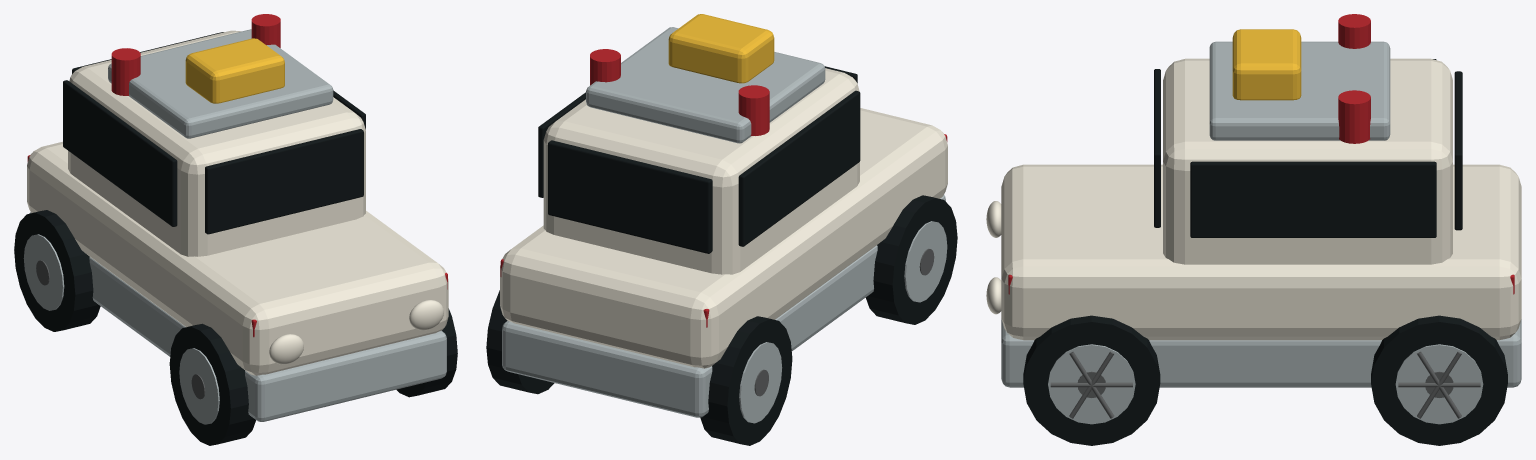
Rendered from hiperreal.glb.
The picture shows the model from 3 angles, left to right: view 1: azimuth 30°, elevation 25°; view 2: azimuth 150°, elevation 25°; view 3: azimuth 270°, elevation 25°; orthographic projection. The views are drawn at different scales.
Parts seen in each view (by area): view 1: White body, Cabin, Car chassis, Windscreen, Roof rack, Windows, Tyre.002, Tyre, Equipment, Rim, Rim.002, Tyre.003 (+4 smaller); view 2: White body, Cabin, Car chassis, Rear window, Roof rack, Windows, Tyre, Tyre.002, Equipment, Rim, Rim.002, Tyre.001 (+3 smaller); view 3: White body, Cabin, Windows.001, Car chassis, Roof rack, Tyre.003, Tyre.001, Equipment, Rim.003, Rim.001, Roof beacon.001, Rear window (+2 smaller).
Part boxes in pixels (x1,y1,x2,y2): White body: [27, 141, 448, 375]; Cabin: [68, 30, 365, 256]; Car chassis: [29, 212, 446, 421]; Windscreen: [205, 129, 363, 234]; Roof rack: [108, 29, 333, 138]; Windows: [63, 80, 177, 226]; Tyre.002: [169, 323, 255, 445]; Tyre: [14, 210, 100, 331]; Equipment: [185, 38, 284, 103]; Rim: [23, 234, 64, 310]; Rim.002: [179, 348, 219, 424]; Tyre.003: [396, 308, 457, 397]; White body: [500, 108, 947, 368]; Cabin: [543, 68, 859, 274]; Car chassis: [502, 195, 945, 417]; Rear window: [548, 140, 712, 253]; Roof rack: [586, 27, 825, 143]; Windows: [738, 90, 860, 246]; Tyre: [700, 316, 792, 445]; Tyre.002: [865, 195, 957, 324]; Equipment: [668, 14, 774, 83]; Rim: [739, 342, 782, 423]; Rim.002: [904, 221, 947, 302]; Tyre.001: [486, 290, 554, 394]; White body: [1001, 164, 1521, 340]; Cabin: [1163, 58, 1452, 264]; Windows.001: [1190, 161, 1436, 237]; Car chassis: [1001, 319, 1521, 387]; Roof rack: [1209, 41, 1390, 140]; Tyre.003: [1023, 315, 1160, 445]; Tyre.001: [1371, 315, 1507, 445]; Equipment: [1232, 29, 1301, 100]; Rim.003: [1048, 344, 1135, 424]; Rim.001: [1395, 344, 1483, 424]; Roof beacon.001: [1338, 90, 1370, 143]; Rear window: [1454, 71, 1462, 230].
Bounding box in the file's own units: 0.5486 × 0.68 × 0.9775.
